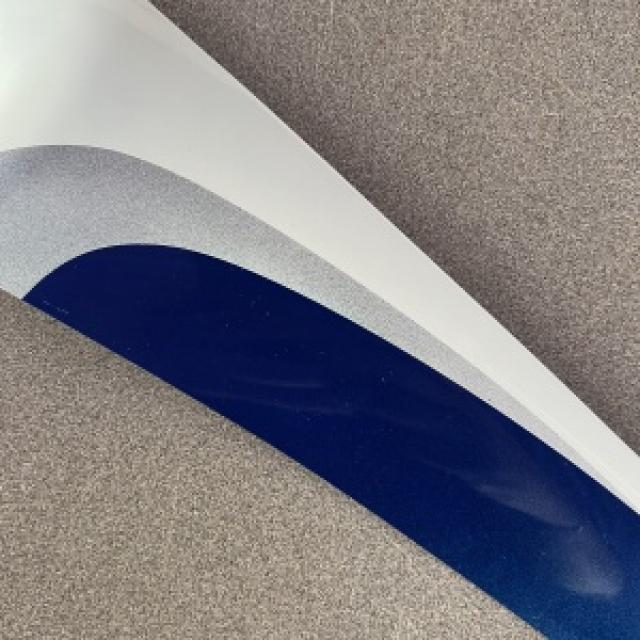healthy: (0, 294, 535, 634)
